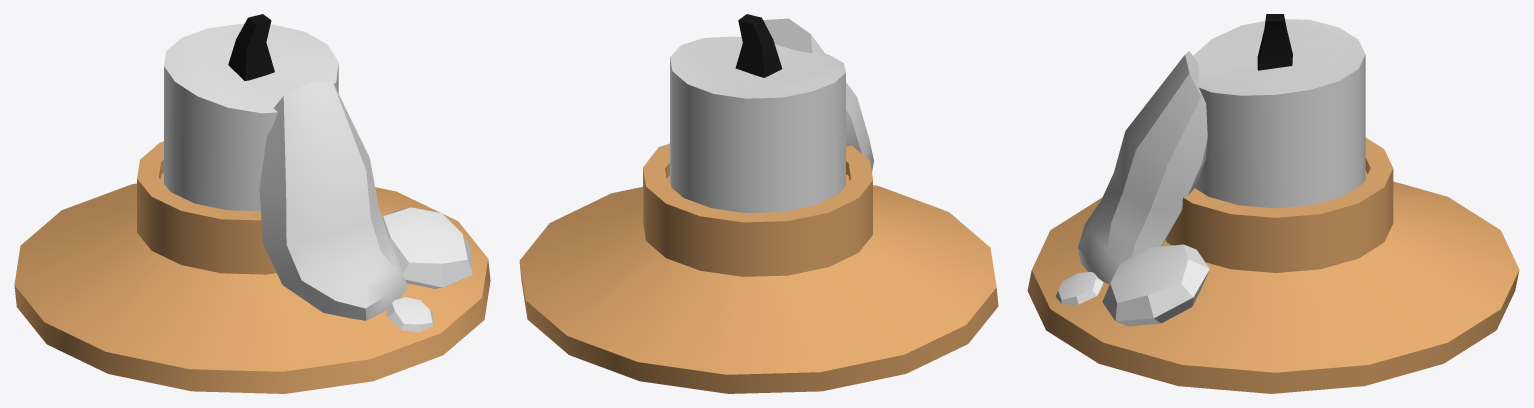
Rendered from candlewithburnedtallow.fbx.
3 renders of one model, left to right at view 1: azimuth 30°, elevation 25°; view 2: azimuth 150°, elevation 25°; view 3: azimuth 270°, elevation 25°, orthographic. The views are drawn at different scales.
Visible parts, largest first — view 1: hugecandle.001; view 2: hugecandle.001; view 3: hugecandle.001.
Boxes of the visible parts, bbox=[...] form: hugecandle.001: bbox=[14, 14, 490, 393]; hugecandle.001: bbox=[519, 14, 998, 393]; hugecandle.001: bbox=[1027, 14, 1519, 393].
Bounding box in the file's own units: 0.4003 × 0.2509 × 0.4035.
